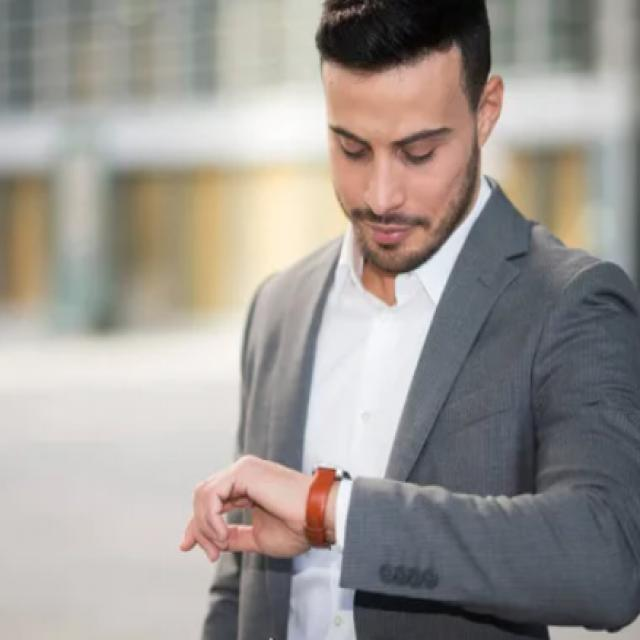Watch: (298, 456, 353, 552)
